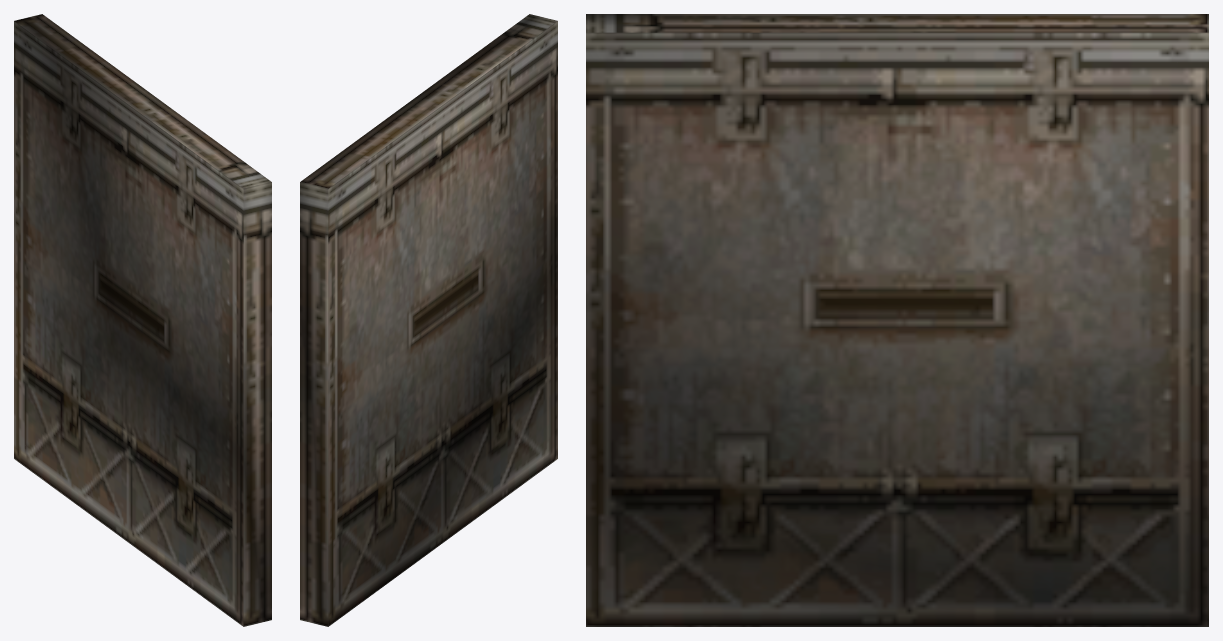
File: M10_Z1_TUNNELGATE03_DOOR01.glb
The picture shows the model from 3 angles, left to right: view 1: azimuth 30°, elevation 25°; view 2: azimuth 150°, elevation 25°; view 3: azimuth 270°, elevation 25°; orthographic projection. The views are drawn at different scales.
Parts seen in each view (by area): view 1: M10_Z1_TUNNELGATE03_DOOR01; view 2: M10_Z1_TUNNELGATE03_DOOR01; view 3: M10_Z1_TUNNELGATE03_DOOR01.
Boxes of the visible parts, x1,y1,x2,y2 form: M10_Z1_TUNNELGATE03_DOOR01: [14, 14, 271, 626]; M10_Z1_TUNNELGATE03_DOOR01: [300, 14, 557, 626]; M10_Z1_TUNNELGATE03_DOOR01: [586, 14, 1208, 626].
Size of the model in its own units: 0.27 by 4 by 3.8.
Materials: 1 (1 with a texture image).
